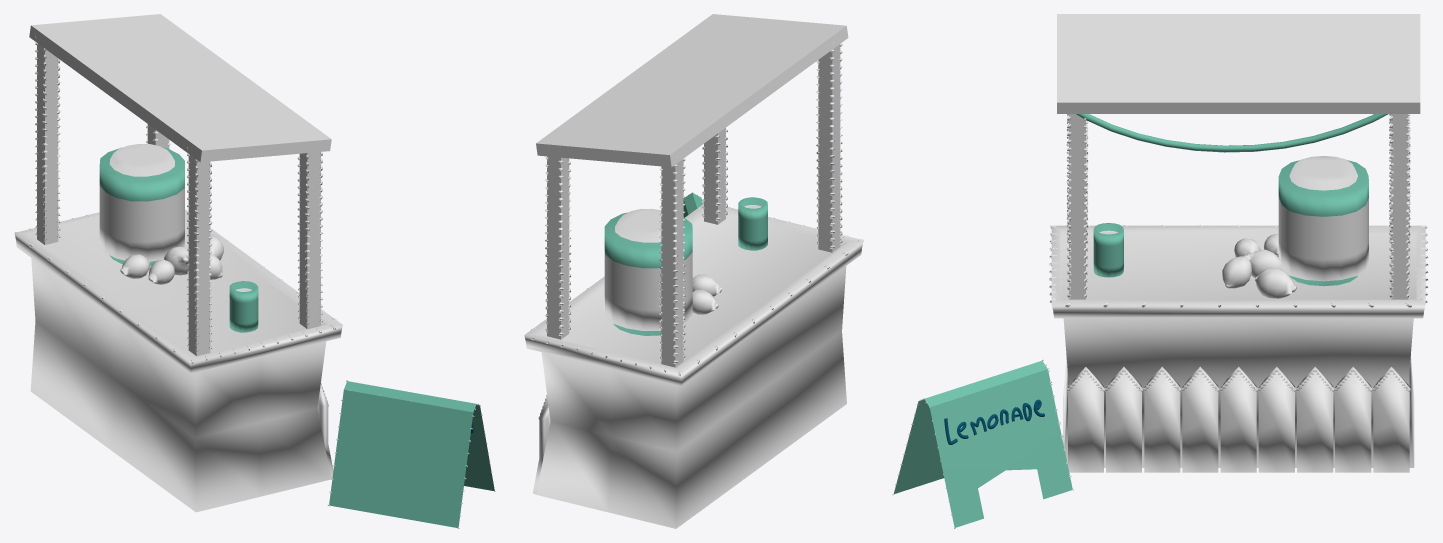
The model's file is SM_LemonadeStand.fbx.
3 renders of one model, left to right at view 1: azimuth 30°, elevation 25°; view 2: azimuth 150°, elevation 25°; view 3: azimuth 270°, elevation 25°, orthographic. The views are drawn at different scales.
Parts seen in each view (by area): view 1: Cube.014; view 2: Cube.014; view 3: Cube.014.
Boxes of the visible parts, bbox=[...] form: Cube.014: bbox=[14, 14, 495, 528]; Cube.014: bbox=[524, 14, 863, 528]; Cube.014: bbox=[892, 14, 1428, 528].
Bounding box in the file's own units: 66.63 × 89.72 × 112.
